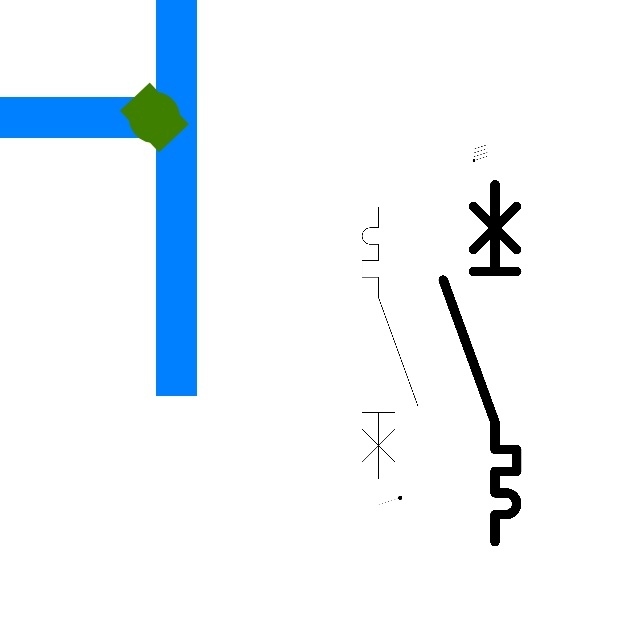interruptor_termomagnetico: (434, 175, 526, 550), (355, 200, 425, 486)
